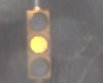Yellow: (22, 5, 53, 83)
